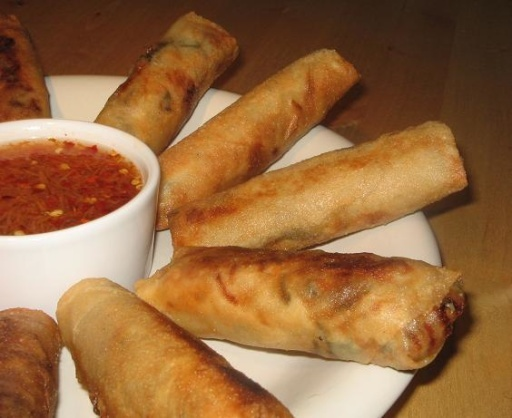background: (0, 6, 376, 272), (0, 65, 115, 153), (0, 7, 42, 80)
